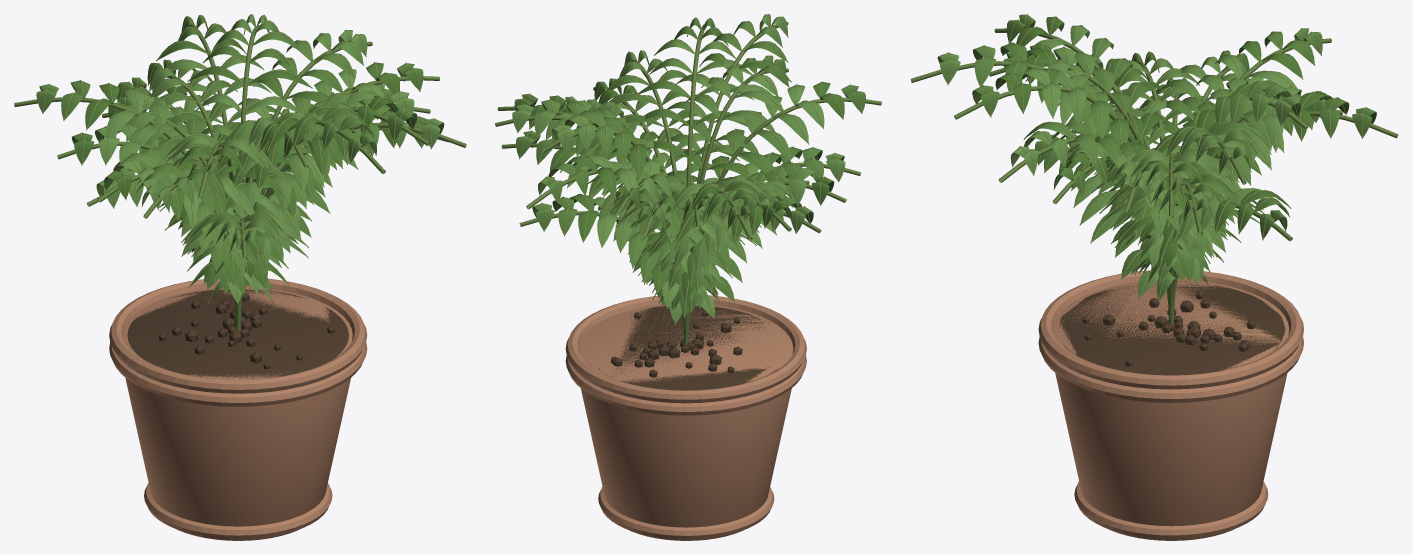
Rendered from terrace-fern.glb.
3 renders of one model, left to right at view 1: azimuth 30°, elevation 25°; view 2: azimuth 150°, elevation 25°; view 3: azimuth 270°, elevation 25°, orthographic. The views are drawn at different scales.
Visible parts, largest first — view 1: Tapered planter; view 2: Tapered planter; view 3: Tapered planter.
Boxes of the visible parts, box(x1,y1,x2,y2) form: Tapered planter: box(14, 14, 466, 540); Tapered planter: box(495, 14, 881, 540); Tapered planter: box(910, 14, 1398, 540).
Bounding box in the file's own units: 1.42 × 1.71 × 1.64.
